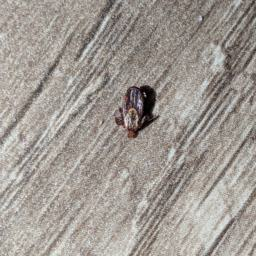Dermacentor variabilis: (114, 85, 158, 139)
